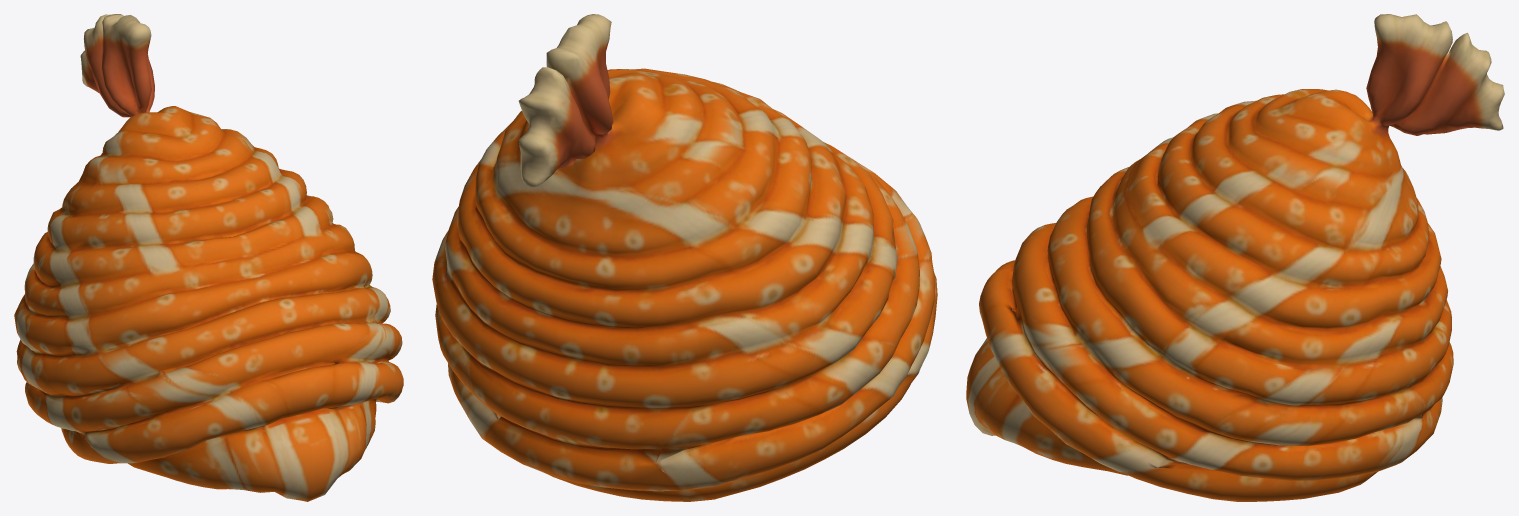
The picture shows the model from 3 angles, left to right: view 1: azimuth 30°, elevation 25°; view 2: azimuth 150°, elevation 25°; view 3: azimuth 270°, elevation 25°; orthographic projection. The views are drawn at different scales.
Visible parts, largest first — view 1: tripo_node_26bc4b1c; view 2: tripo_node_26bc4b1c; view 3: tripo_node_26bc4b1c.
Part boxes in pixels (x1,y1,x2,y2): tripo_node_26bc4b1c: (14, 14, 403, 501); tripo_node_26bc4b1c: (432, 14, 937, 501); tripo_node_26bc4b1c: (966, 14, 1504, 501).
Bounding box in the file's own units: 81.22 × 88.89 × 99.41.
1 material, 1 textured.
